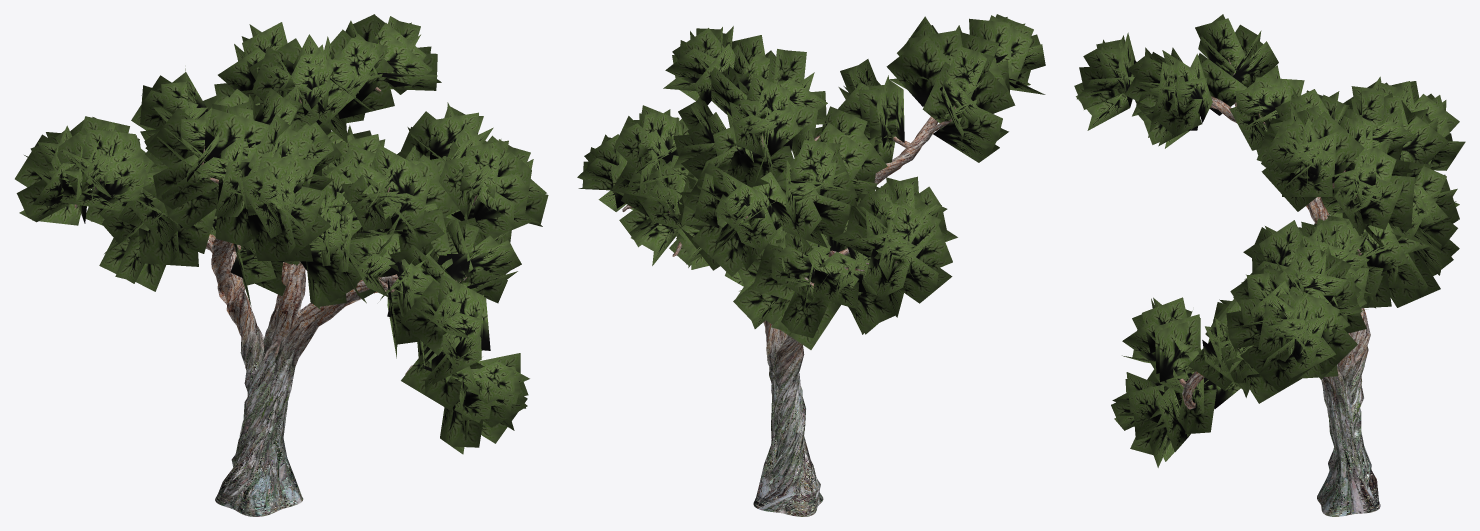
The model's file is Tree_02.fbx.
The picture shows the model from 3 angles, left to right: view 1: azimuth 30°, elevation 25°; view 2: azimuth 150°, elevation 25°; view 3: azimuth 270°, elevation 25°; orthographic projection. The views are drawn at different scales.
Parts seen in each view (by area): view 1: tree.002; view 2: tree.002; view 3: tree.002.
Part boxes in pixels (bbox=[...]): tree.002: bbox=[15, 14, 548, 516]; tree.002: bbox=[577, 14, 1045, 516]; tree.002: bbox=[1074, 14, 1465, 516].
Size of the model in its own units: 4923 by 4944 by 4065.
